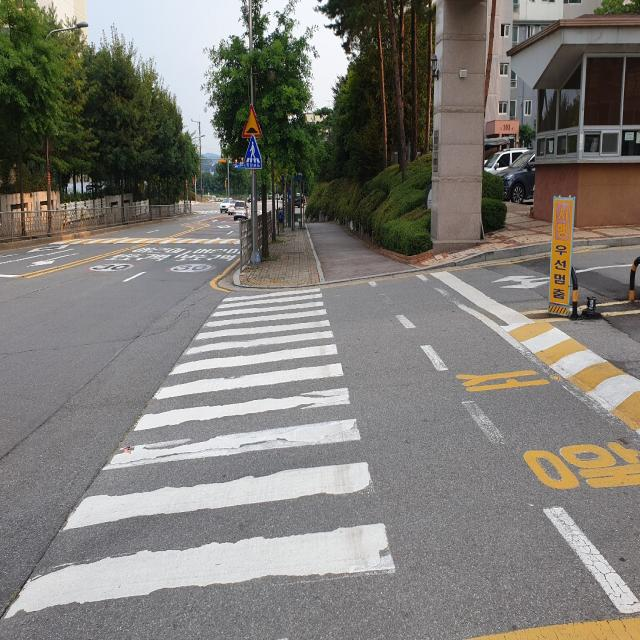횡단보도: (4, 289, 396, 618)
